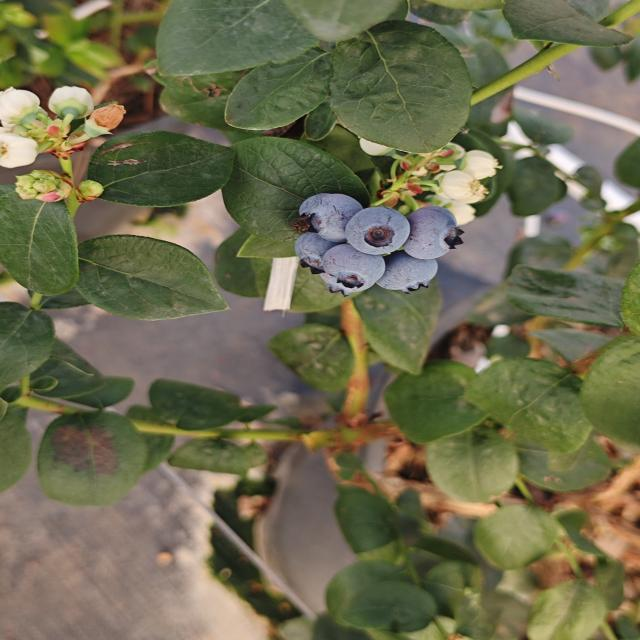ripe: (344, 202, 419, 256), (324, 244, 388, 297), (298, 191, 358, 245), (403, 206, 462, 256), (298, 236, 352, 280), (376, 252, 437, 290)
